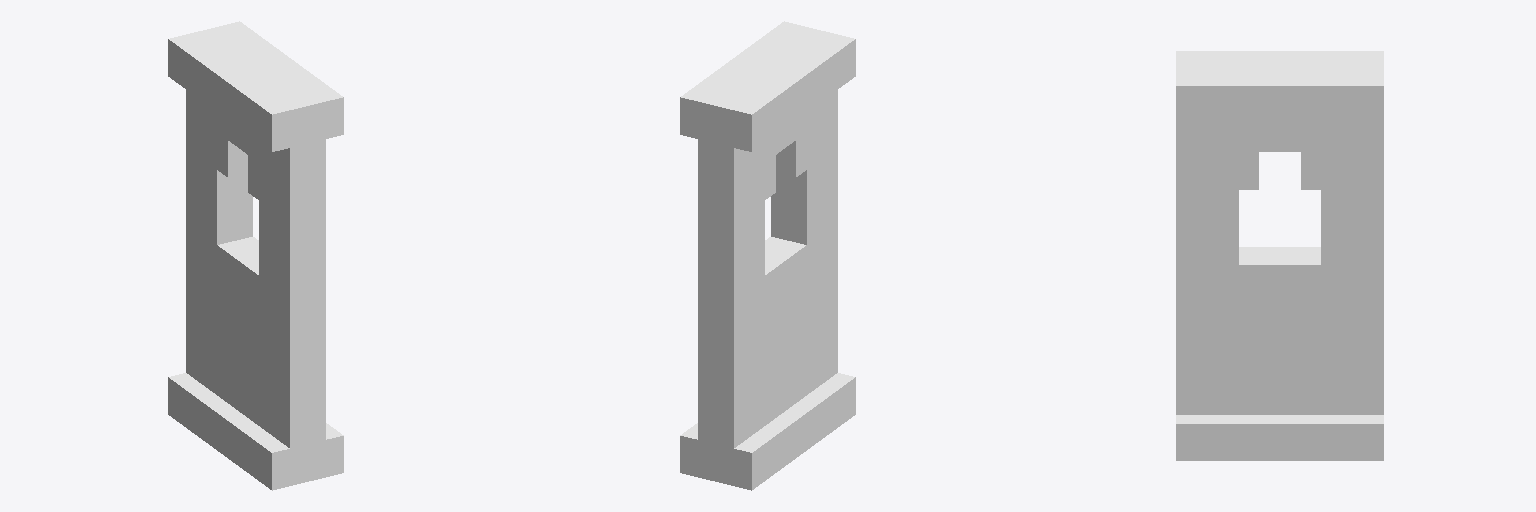
The model's file is wall_short_window.obj.
3 views of the same model, side by side, from view 1: azimuth 30°, elevation 25°; view 2: azimuth 150°, elevation 25°; view 3: azimuth 270°, elevation 25° (orthographic).
Parts seen in each view (by area): view 1: object 1; view 2: object 1; view 3: object 1.
Part boxes in pixels (bbox=[...]): object 1: bbox=[168, 21, 343, 490]; object 1: bbox=[680, 21, 855, 490]; object 1: bbox=[1176, 51, 1383, 460].
Size of the model in its own units: 0.4 by 2 by 1.